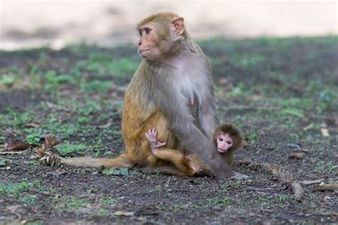monkey: (105, 9, 220, 194), (138, 119, 279, 177)
